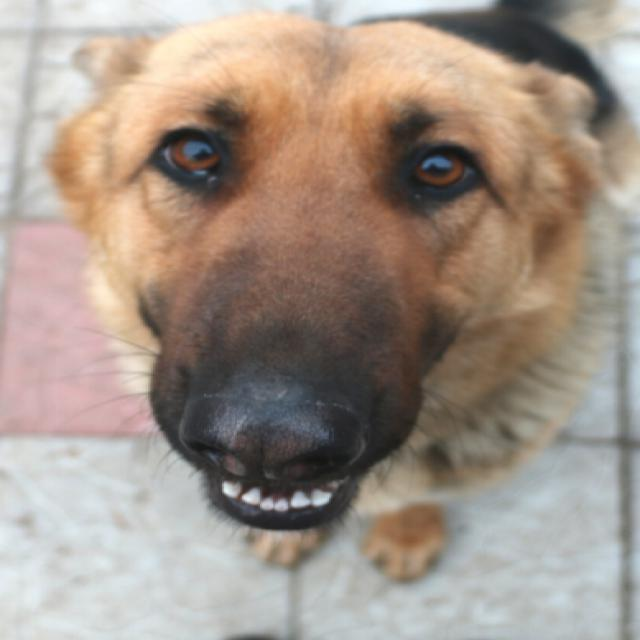eye: (148, 128, 232, 187), (406, 138, 484, 196)
